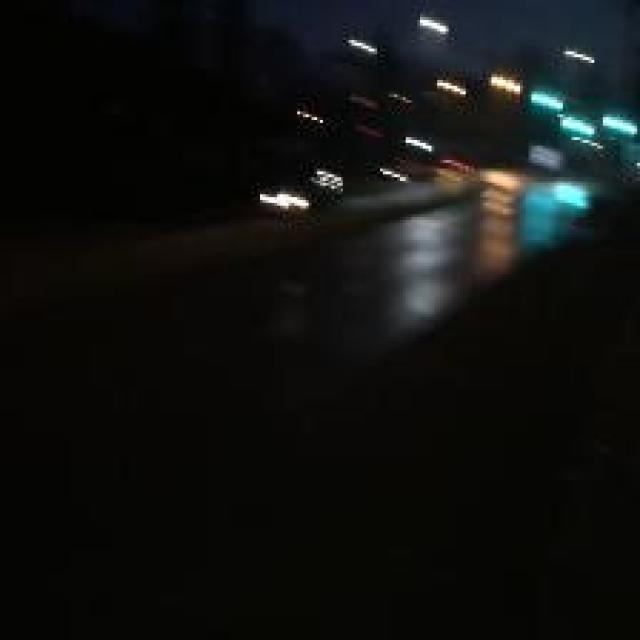other: (474, 150, 520, 261), (485, 66, 525, 101)
